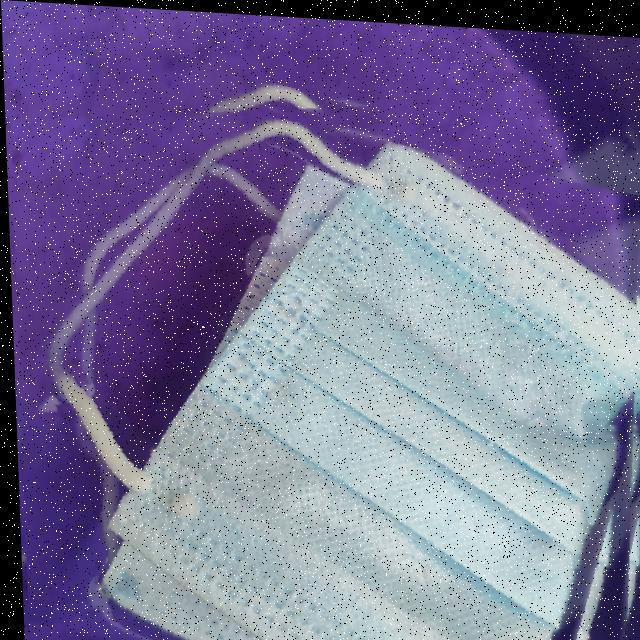mask: (7, 58, 640, 640)
